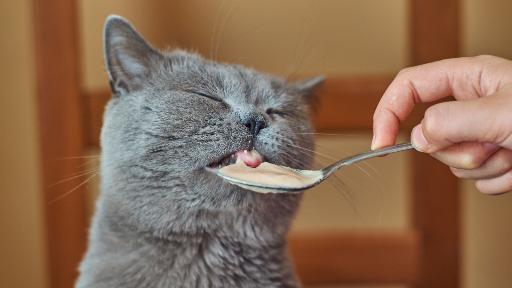cat_eating: (76, 15, 412, 288)
